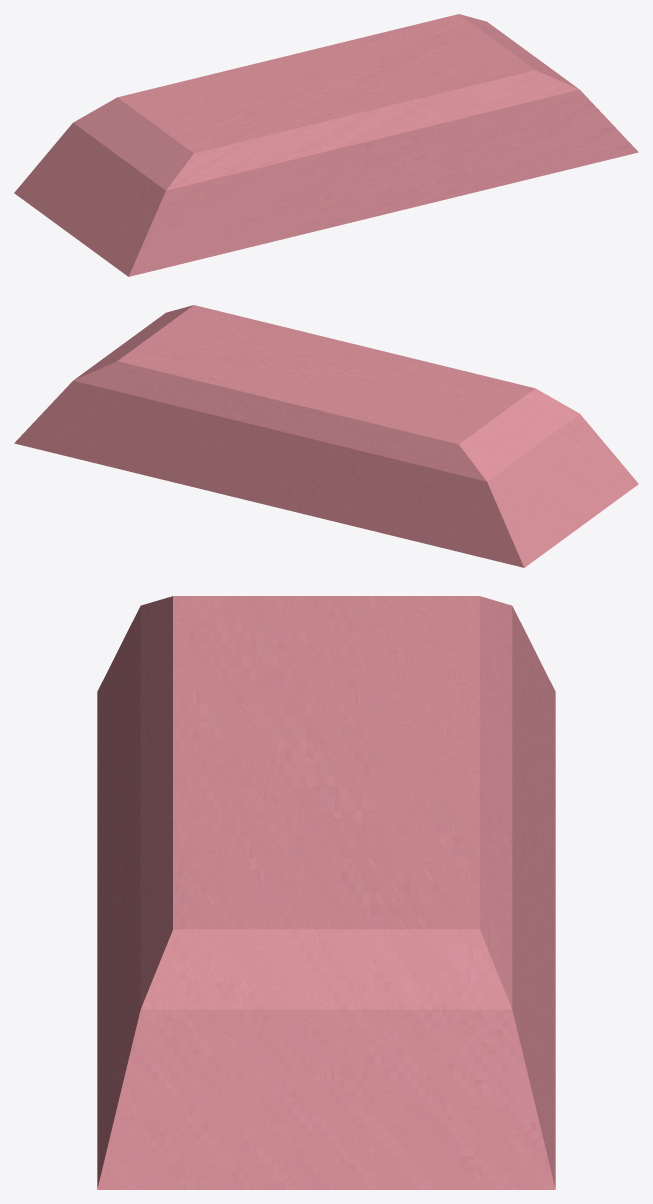
Rendered from gold-bar.fbx.
3 renders of one model, top to bottom at view 1: azimuth 30°, elevation 25°; view 2: azimuth 150°, elevation 25°; view 3: azimuth 270°, elevation 25°, orthographic. The views are drawn at different scales.
Visible parts, largest first — view 1: defaultMaterial; view 2: defaultMaterial; view 3: defaultMaterial.
Part boxes in pixels (<box>): defaultMaterial: <box>14,14,638,276</box>; defaultMaterial: <box>14,305,638,567</box>; defaultMaterial: <box>97,596,555,1189</box>.
Size of the model in its own units: 200 by 33.33 by 77.76.
